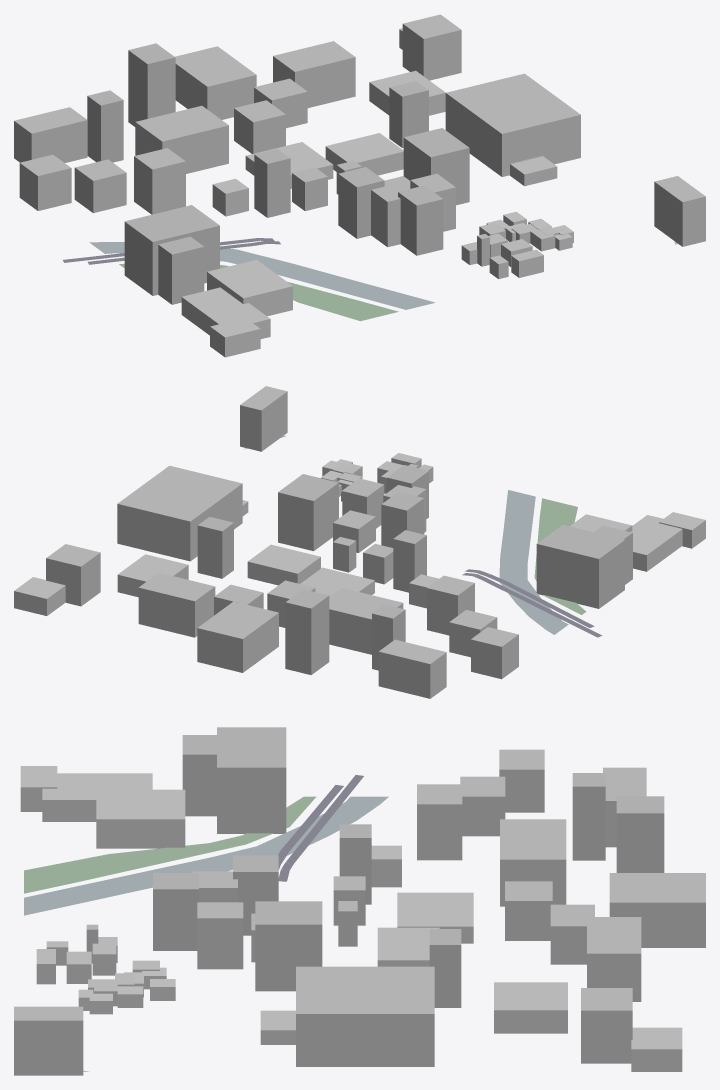
File: 131_97_mid.glb
3 renders of one model, top to bottom at view 1: azimuth 30°, elevation 25°; view 2: azimuth 150°, elevation 25°; view 3: azimuth 270°, elevation 25°, orthographic. The views are drawn at different scales.
Size of the model in its own units: 550 by 78.96 by 532.
